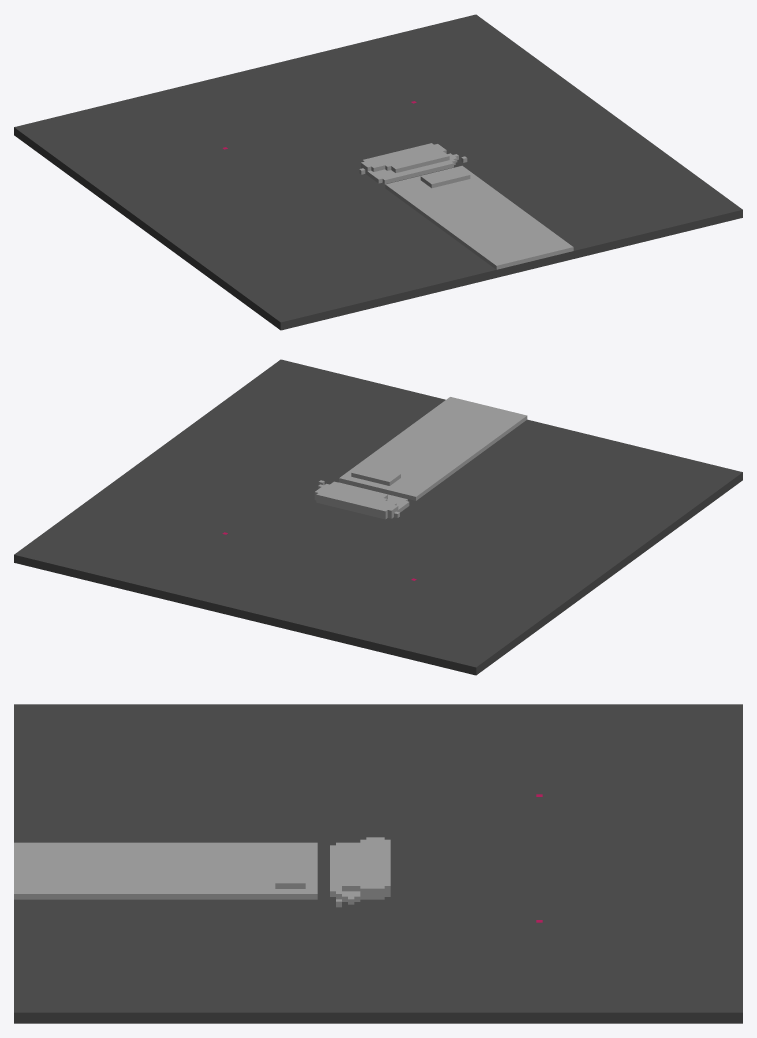
The model's file is mapkari-15.obj.
3 renders of one model, top to bottom at view 1: azimuth 30°, elevation 25°; view 2: azimuth 150°, elevation 25°; view 3: azimuth 270°, elevation 25°, orthographic. The views are drawn at different scales.
Visible parts, largest first — view 1: mapkari-15; view 2: mapkari-15; view 3: mapkari-15.
Part boxes in pixels (<box>): mapkari-15: <box>14,14,742,330</box>; mapkari-15: <box>14,359,742,675</box>; mapkari-15: <box>14,704,742,1023</box>.
Bounding box in the file's own units: 120 × 4 × 120.
1 material, 1 textured.
